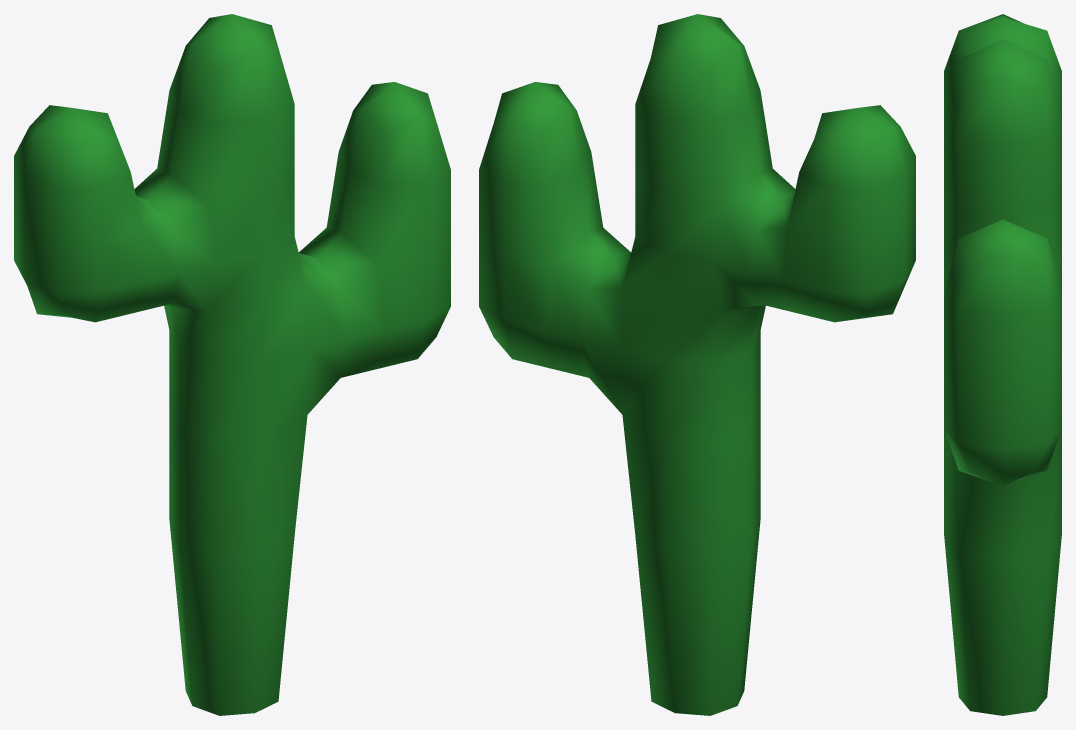
Rendered from Cactus2.fbx.
3 views of the same model, side by side, from view 1: azimuth 30°, elevation 25°; view 2: azimuth 150°, elevation 25°; view 3: azimuth 270°, elevation 25° (orthographic). The views are drawn at different scales.
Parts seen in each view (by area): view 1: pCube4; view 2: pCube4; view 3: pCube4.
Part boxes in pixels (left/top/right/bottom): pCube4: left=14, top=14, right=450, bottom=715; pCube4: left=479, top=14, right=915, bottom=715; pCube4: left=944, top=14, right=1061, bottom=715.
Size of the model in its own units: 39.05 by 61.56 by 10.
